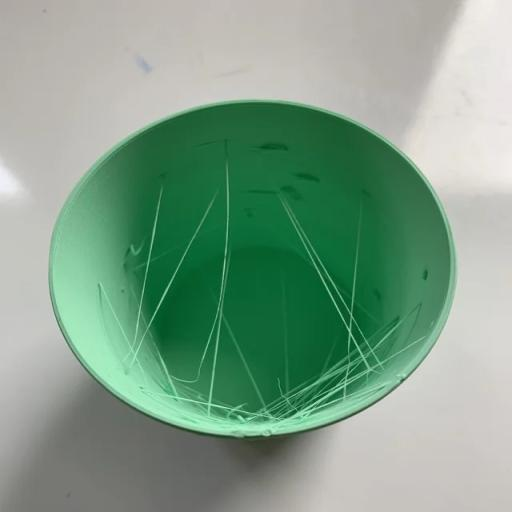stringing: (203, 183, 240, 402), (325, 312, 391, 382), (270, 370, 341, 413)
